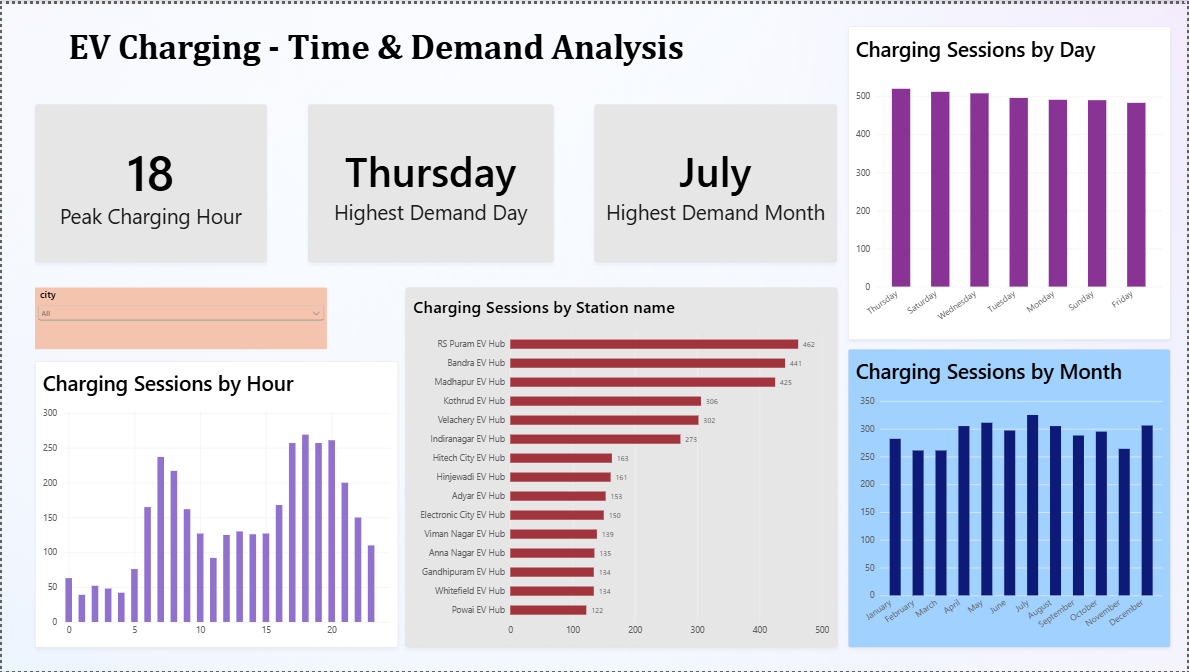

Layout of this report page (visuals, bound fields, positions):
{"tool":"powerbi","page":{"name":"Time and demand analysis","canvas":[1920,1080],"ordinal":1},"visuals":[{"type":"clusteredColumnChart","title":"Charging Sessions by Hour","fields":{"Category":["ev_charging_sessions.Charging Hour"],"Y":["CountNonNull(ev_charging_sessions.session_id)"]},"box":[52.5,577.5,587.5,432.5],"z":0},{"type":"clusteredColumnChart","title":"Charging Sessions by Day","fields":{"Category":["ev_charging_sessions.Day name"],"Y":["CountNonNull(ev_charging_sessions.session_id)"]},"box":[1370,37.5,522.5,507.5],"z":1},{"type":"clusteredColumnChart","title":"Charging Sessions by Month","fields":{"Category":["ev_charging_sessions.Month Name"],"Y":["CountNonNull(ev_charging_sessions.session_id)"]},"box":[1382.5,577.5,510,465],"z":2},{"type":"card","title":"Peak Charging Hour","fields":{"Values":["ev_charging_sessions.Peak Charging Hour"]},"box":[52.5,162.5,375,255],"z":3},{"type":"card","fields":{"Values":["ev_charging_sessions.Highest Demand Day"]},"box":[495,162.5,397.5,255],"z":4},{"type":"card","fields":{"Values":["ev_charging_sessions.Highest Demand Month"]},"box":[960,162.5,392.5,255],"z":5},{"type":"textbox","box":[51.3,38.5,546.2,148.7],"z":6},{"type":"textbox","box":[77.5,37.5,1275,102.5],"z":7},{"type":"barChart","title":"Charging Sessions by Station name","fields":{"Category":["ev_charging_stations.station_name"],"Y":["ev_charging_sessions.Total Charging Sessions"]},"box":[652.5,460,700,550],"z":8},{"type":"slicer","fields":{"Values":["ev_charging_stations.city"]},"box":[52.5,460,472.5,100],"z":9}]}

Visuals, with their boxes in screenshot pixels (x1, y1, x2, y2), scaled from the page's 1920x1080 canvas onto the 1189x672 screenshot:
"Charging Sessions by Hour" clusteredColumnChart: x1=33, y1=359, x2=396, y2=628
"Charging Sessions by Day" clusteredColumnChart: x1=848, y1=23, x2=1172, y2=339
"Charging Sessions by Month" clusteredColumnChart: x1=856, y1=359, x2=1172, y2=649
"Peak Charging Hour" card: x1=33, y1=101, x2=265, y2=260
card - ev_charging_sessions.Highest Demand Day: x1=307, y1=101, x2=553, y2=260
card - ev_charging_sessions.Highest Demand Month: x1=594, y1=101, x2=838, y2=260
textbox: x1=32, y1=24, x2=370, y2=116
textbox: x1=48, y1=23, x2=838, y2=87
"Charging Sessions by Station name" barChart: x1=404, y1=286, x2=838, y2=628
slicer - ev_charging_stations.city: x1=33, y1=286, x2=325, y2=348
